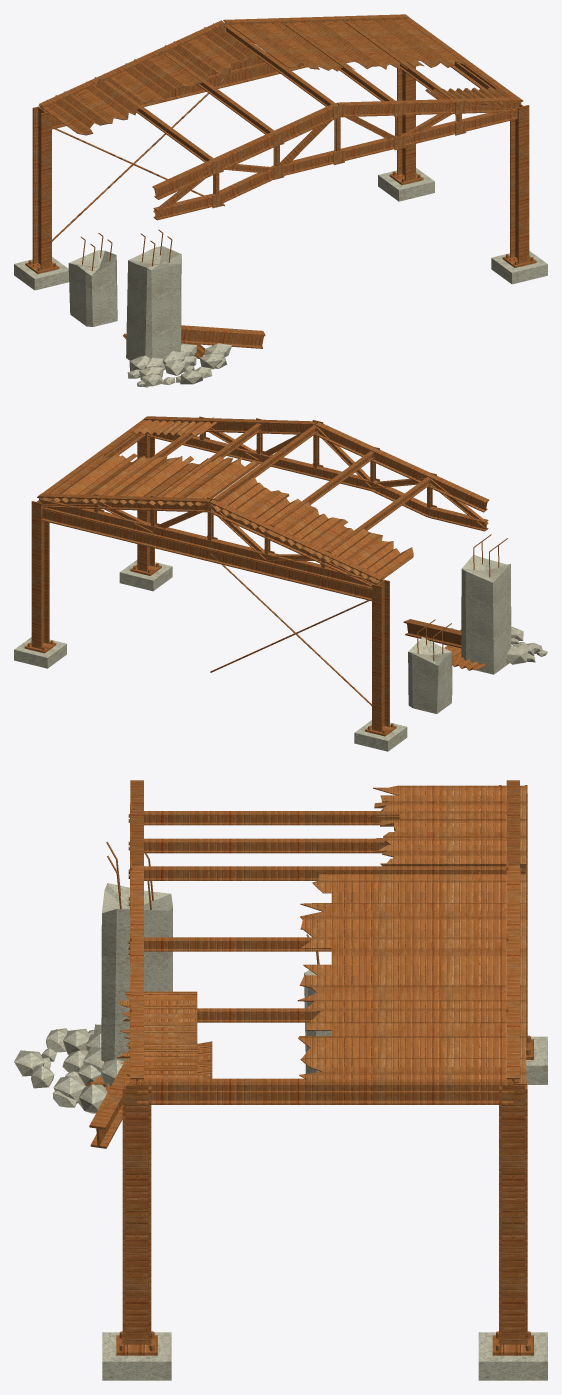
The model's file is s54-maintenance-bay.glb.
The picture shows the model from 3 angles, top to bottom: view 1: azimuth 30°, elevation 25°; view 2: azimuth 150°, elevation 25°; view 3: azimuth 270°, elevation 25°; orthographic projection. The views are drawn at different scales.
Parts seen in each view (by area): view 1: Torn right roof, Torn rear left roof, Left front shattered pier, Secondary broken masonry pier, Standing I column, Standing I column.002, Collapsed I beam, Rear eave tie, Standing I column.001, Roof purlin.002, Concrete footing.001, Concrete footing.002 (+22 smaller); view 2: Torn right roof, Torn rear left roof, Left front shattered pier, Rear eave tie, Secondary broken masonry pier, Standing I column, Standing I column.001, Roof purlin.002, Hanging front roof remnant, Collapsed I beam, Standing I column.002, Concrete footing.002 (+33 smaller); view 3: Torn right roof, Torn rear left roof, Standing I column.002, Standing I column.001, Right longitudinal tie, Left front shattered pier, Hanging front roof remnant, Roof purlin.002, Roof purlin.001, Roof purlin, Roof purlin.003, Roof purlin.005 (+12 smaller).
Boxes of the visible parts, left/top/right/bottom form: Torn right roof: left=231, top=18, right=466, bottom=71; Torn rear left roof: left=38, top=23, right=257, bottom=135; Left front shattered pier: left=126, top=246, right=181, bottom=360; Secondary broken masonry pier: left=68, top=250, right=117, bottom=326; Standing I column: left=32, top=106, right=51, bottom=269; Standing I column.002: left=510, top=102, right=529, bottom=263; Collapsed I beam: left=181, top=325, right=265, bottom=348; Rear eave tie: left=52, top=61, right=307, bottom=129; Standing I column.001: left=397, top=62, right=415, bottom=180; Roof purlin.002: left=224, top=25, right=337, bottom=106; Concrete footing.001: left=378, top=168, right=434, bottom=201; Concrete footing.002: left=491, top=251, right=547, bottom=284; Torn right roof: left=37, top=453, right=260, bottom=506; Torn rear left roof: left=213, top=477, right=413, bottom=583; Left front shattered pier: left=461, top=555, right=511, bottom=674; Rear eave tie: left=42, top=509, right=371, bottom=601; Secondary broken masonry pier: left=408, top=637, right=452, bottom=713; Standing I column: left=372, top=579, right=389, bottom=732; Standing I column.001: left=31, top=498, right=49, bottom=649; Roof purlin.002: left=210, top=425, right=317, bottom=503; Hanging front roof remnant: left=131, top=417, right=216, bottom=436; Collapsed I beam: left=403, top=619, right=461, bottom=648; Standing I column.002: left=137, top=433, right=154, bottom=571; Concrete footing.002: left=119, top=560, right=172, bottom=591; Torn right roof: left=297, top=874, right=526, bottom=1084; Torn rear left roof: left=373, top=785, right=526, bottom=867; Standing I column.002: left=122, top=1080, right=151, bottom=1348; Standing I column.001: left=499, top=1080, right=527, bottom=1348; Right longitudinal tie: left=137, top=1078, right=513, bottom=1104; Left front shattered pier: left=101, top=883, right=172, bottom=1061; Hanging front roof remnant: left=117, top=991, right=197, bottom=1084; Roof purlin.002: left=144, top=866, right=506, bottom=880; Roof purlin.001: left=144, top=838, right=506, bottom=853; Roof purlin: left=144, top=811, right=506, bottom=825; Roof purlin.003: left=144, top=937, right=506, bottom=951; Roof purlin.005: left=137, top=1079, right=513, bottom=1093.
Size of the model in its own units: 10.82 by 5.29 by 7.1.
Materials: 2 (2 with a texture image).
